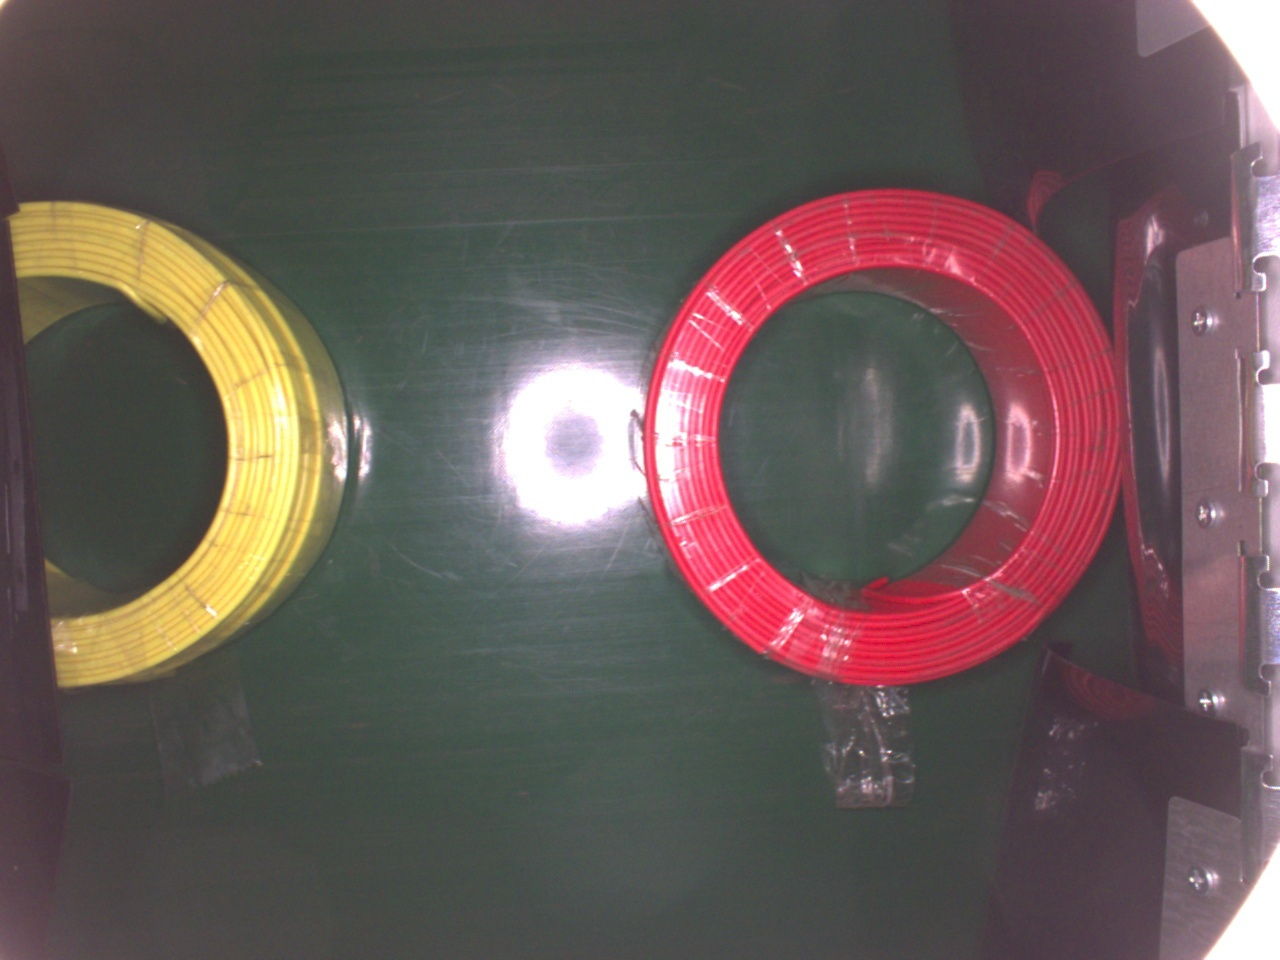red: (644, 187, 1120, 686)
yellow: (0, 194, 354, 685)
